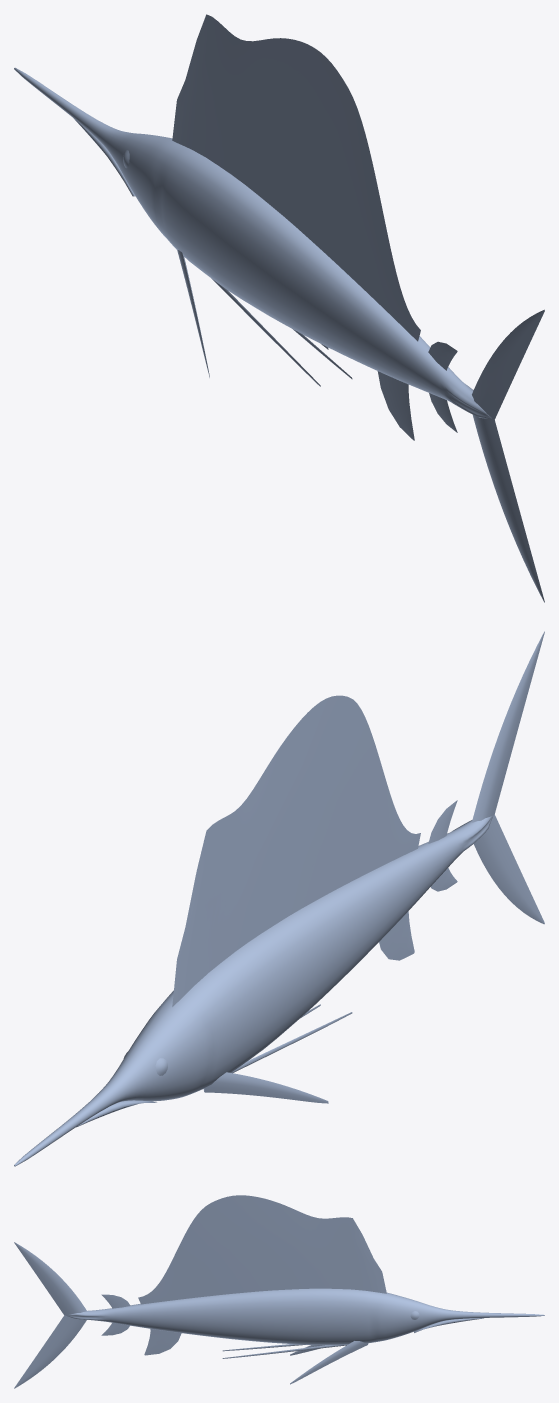
Rendered from sailfish_lo.glb.
3 renders of one model, top to bottom at view 1: azimuth 30°, elevation 25°; view 2: azimuth 150°, elevation 25°; view 3: azimuth 270°, elevation 25°, orthographic. The views are drawn at different scales.
Parts seen in each view (by area): view 1: sailfish_lo; view 2: sailfish_lo; view 3: sailfish_lo.
Boxes of the visible parts, x1,y1,x2,y2 form: sailfish_lo: (14, 14, 544, 602); sailfish_lo: (14, 631, 544, 1166); sailfish_lo: (14, 1195, 544, 1388).
Size of the model in its own units: 0.3347 by 1.04 by 2.6.
